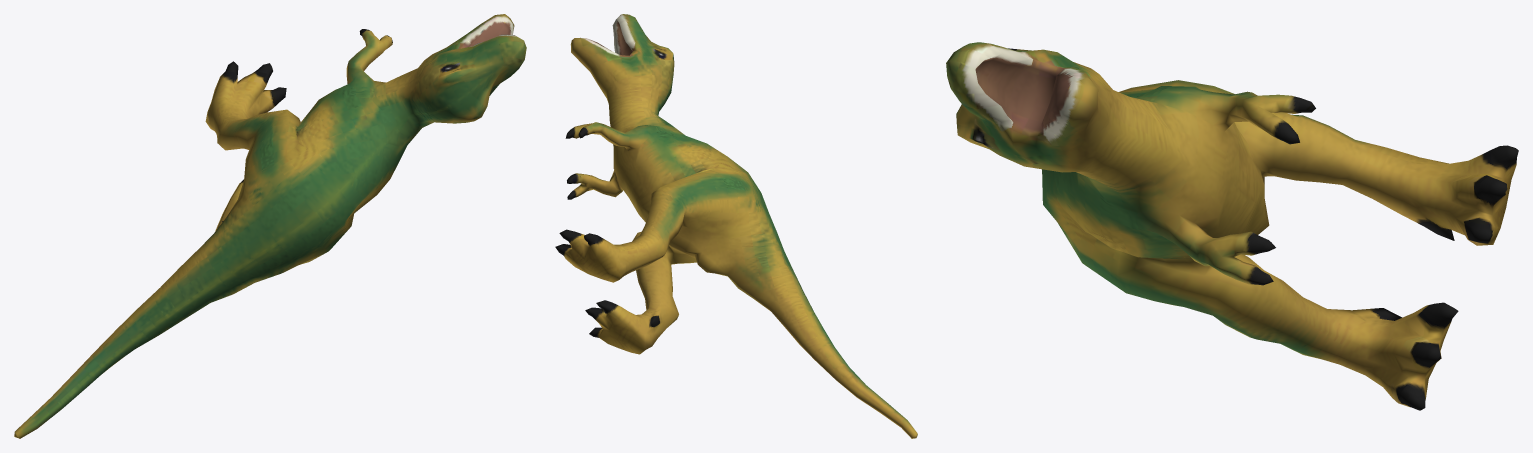
File: ref_gtdinosaur.fbx
The picture shows the model from 3 angles, left to right: view 1: azimuth 30°, elevation 25°; view 2: azimuth 150°, elevation 25°; view 3: azimuth 270°, elevation 25°; orthographic projection. The views are drawn at different scales.
Parts seen in each view (by area): view 1: ref_gtdinosaur; view 2: ref_gtdinosaur; view 3: ref_gtdinosaur.
Part boxes in pixels (bbox=[...]): ref_gtdinosaur: bbox=[14, 14, 526, 438]; ref_gtdinosaur: bbox=[555, 14, 917, 438]; ref_gtdinosaur: bbox=[946, 42, 1518, 410].
Bounding box in the file's own units: 100 × 73.74 × 65.14.
Materials: 1 (1 with a texture image).
